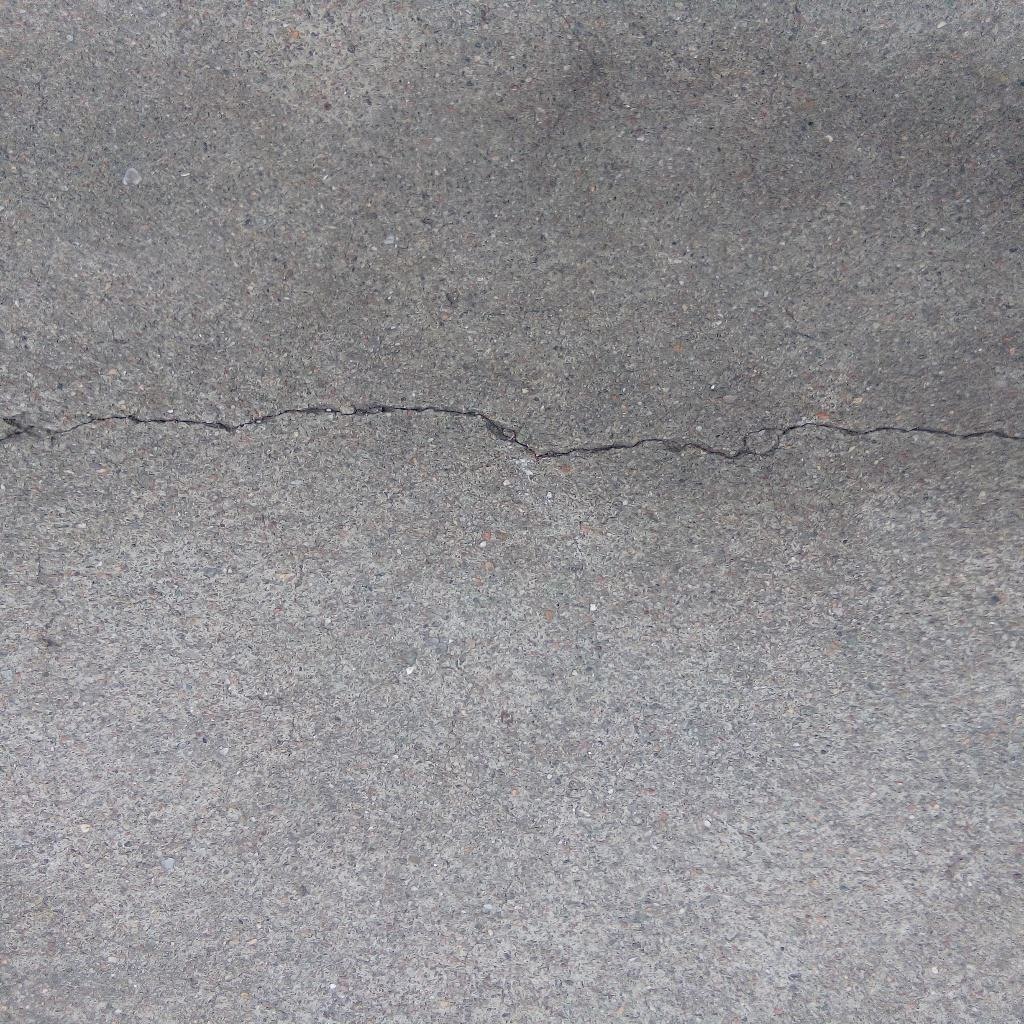Crack: (1, 400, 1024, 463)
